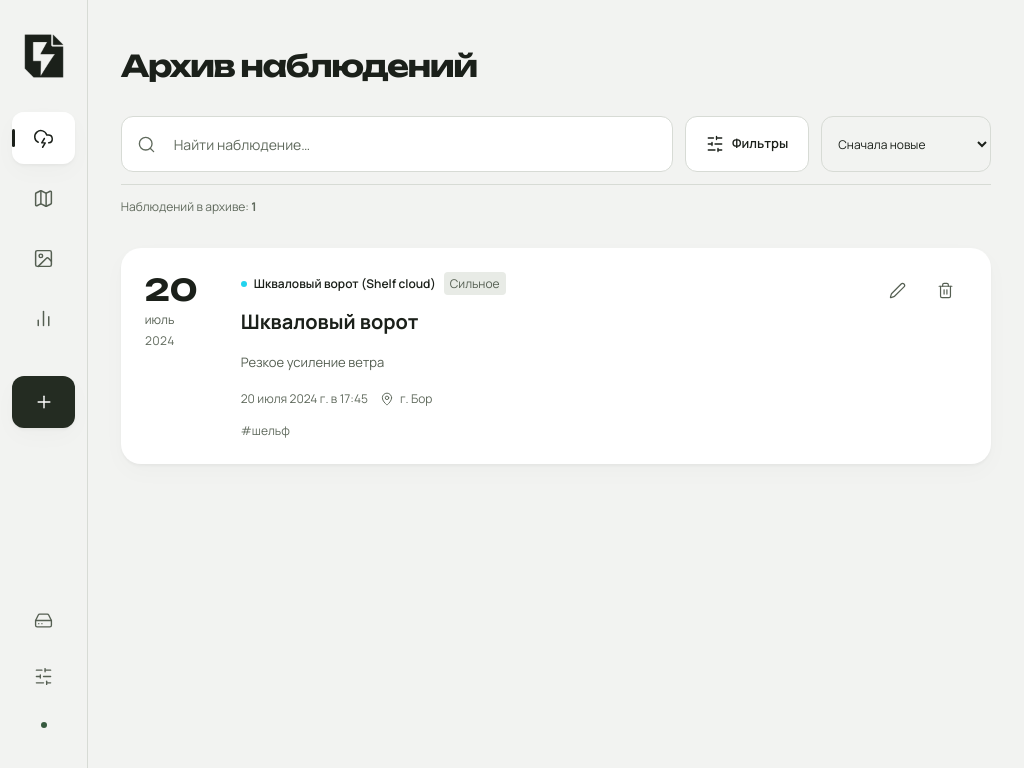
viewing, editing and deleting › asks for confirmation before deleting and then removes the record
Click the button named "Удалить": (945, 290) 923,268 -> 967,312
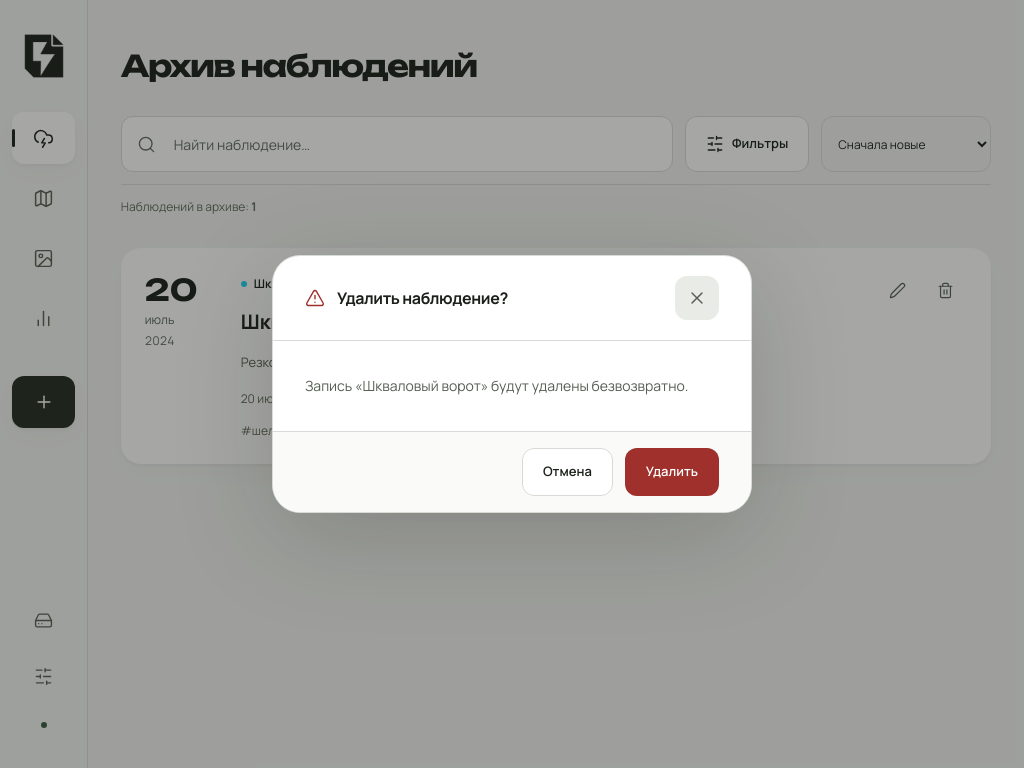
Expected: the text "Запись «Шкваловый ворот» будут удалены безвозвратно." is shown, 305,373 -> 704,399
Click the button "Удалить": (672, 472) 625,448 -> 719,496
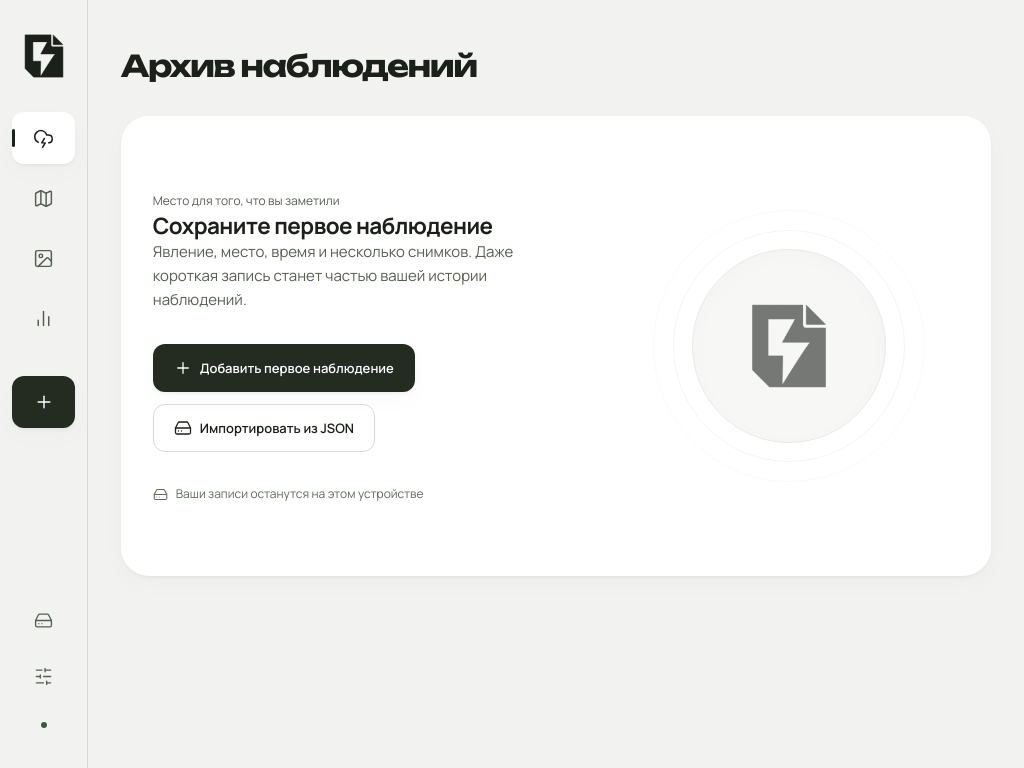
Expected: the heading "Сохраните первое наблюдение" is shown, 153,210 -> 493,241
